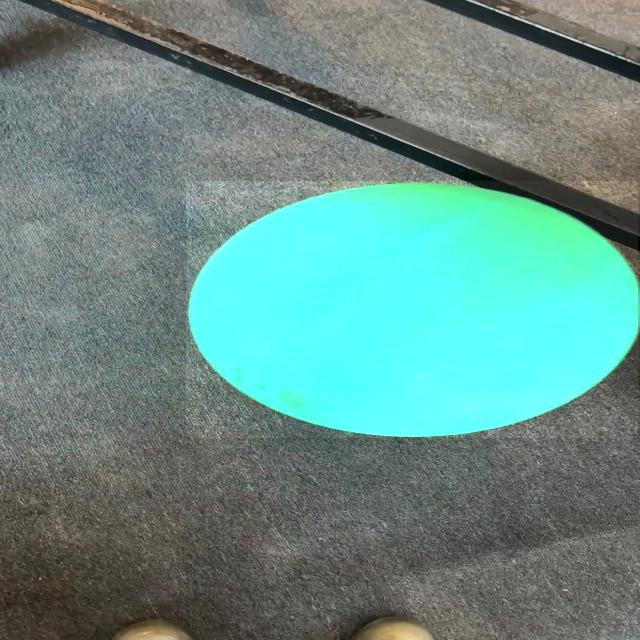Algae: (186, 181, 638, 438)
